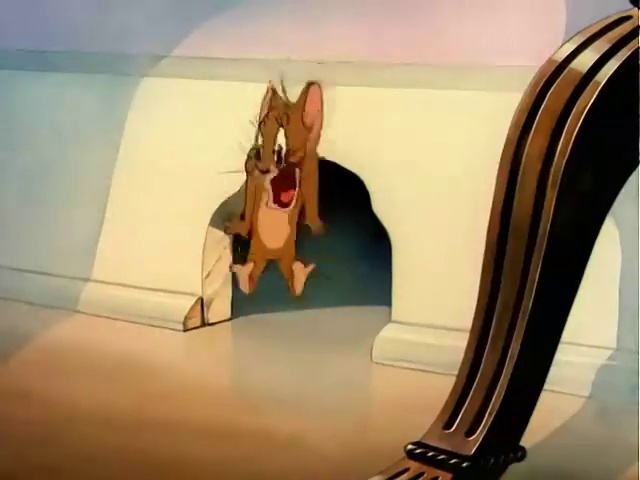jerry: (175, 61, 376, 306)
